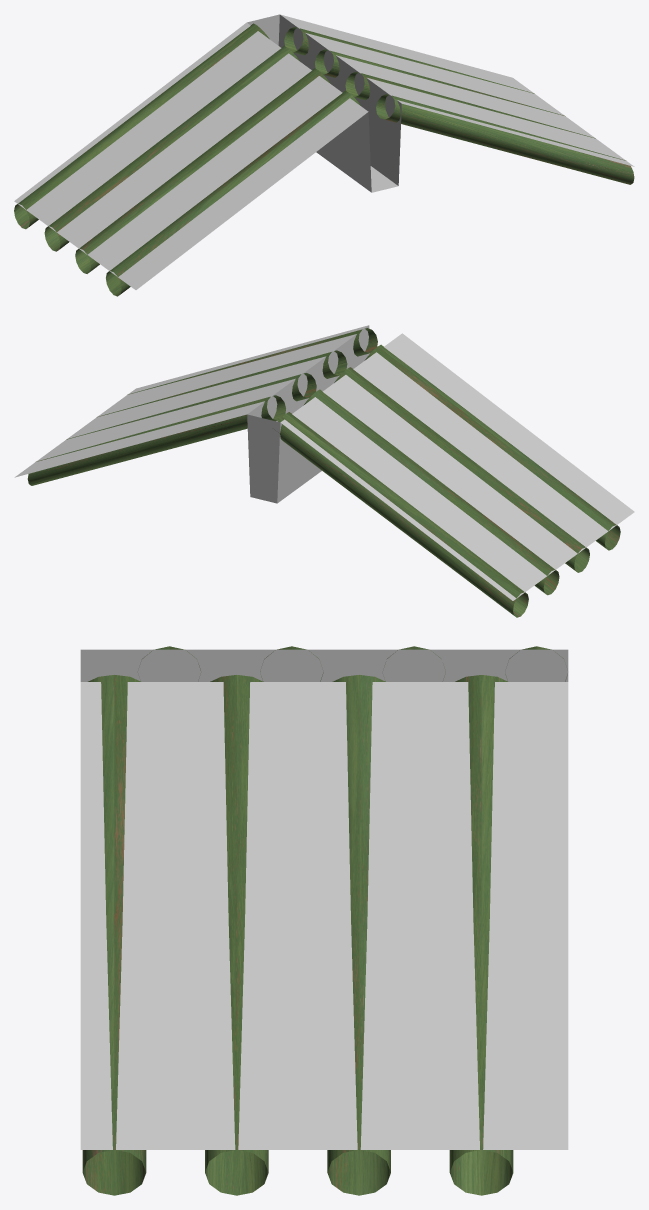
File: SM_Giwa01A_b1.fbx
3 renders of one model, top to bottom at view 1: azimuth 30°, elevation 25°; view 2: azimuth 150°, elevation 25°; view 3: azimuth 270°, elevation 25°, orthographic. The views are drawn at different scales.
Parts seen in each view (by area): view 1: SM_Giwa01A_b1; view 2: SM_Giwa01A_b1; view 3: SM_Giwa01A_b1.
Boxes of the visible parts, left/top/right/bottom form: SM_Giwa01A_b1: left=14, top=14, right=634, bottom=296; SM_Giwa01A_b1: left=14, top=325, right=634, bottom=617; SM_Giwa01A_b1: left=80, top=646, right=568, bottom=1195.
Bounding box in the file's own units: 290 × 123 × 80.97.
